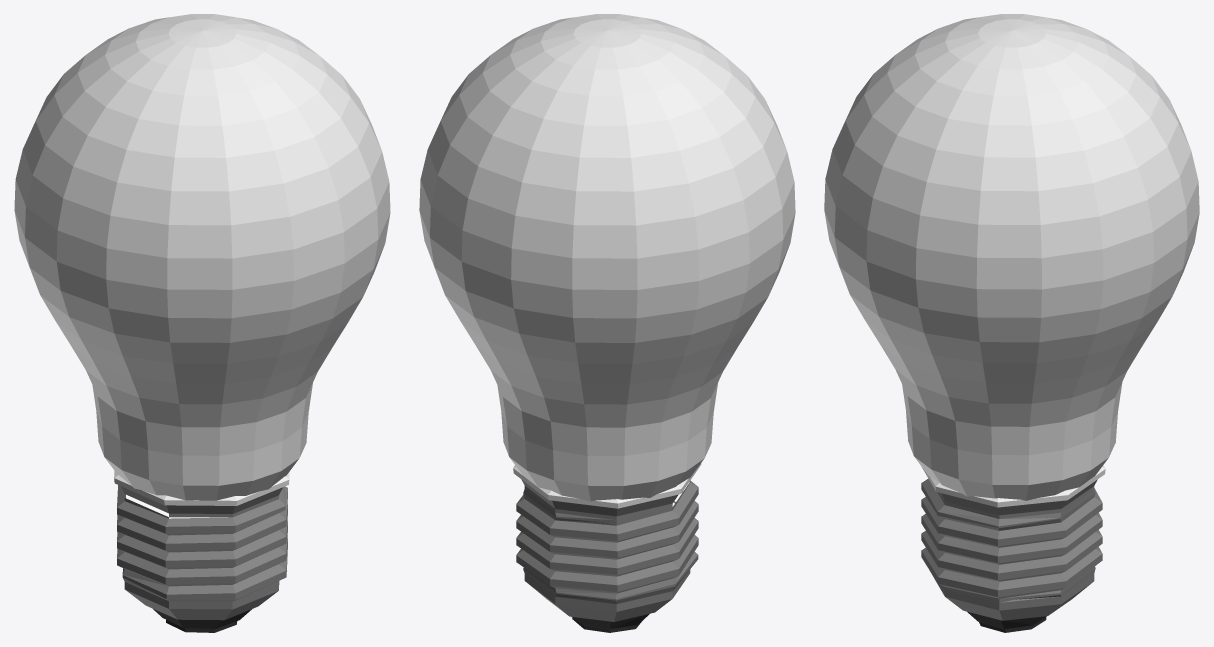
Rendered from 498b55a1-651e-4e8e-bdca-c15a9824c1be.glb.
3 renders of one model, left to right at view 1: azimuth 30°, elevation 25°; view 2: azimuth 150°, elevation 25°; view 3: azimuth 270°, elevation 25°, orthographic.
Visible parts, largest first — view 1: Light; view 2: Light; view 3: Light.
Part boxes in pixels (left/top/right/bottom): Light: left=14, top=14, right=390, bottom=632; Light: left=419, top=14, right=795, bottom=632; Light: left=824, top=14, right=1199, bottom=632.
Bounding box in the file's own units: 22.17 × 38.69 × 22.46.
Materials: 1 (1 with a texture image).
